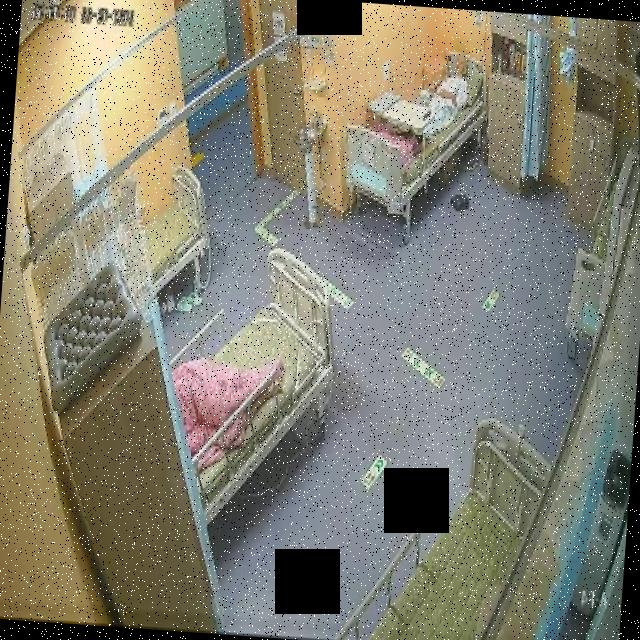bed: (334, 411, 555, 640), (167, 244, 343, 528), (339, 44, 495, 222), (140, 163, 212, 298)
lie: (423, 50, 472, 136)
patient: (426, 52, 472, 138)
